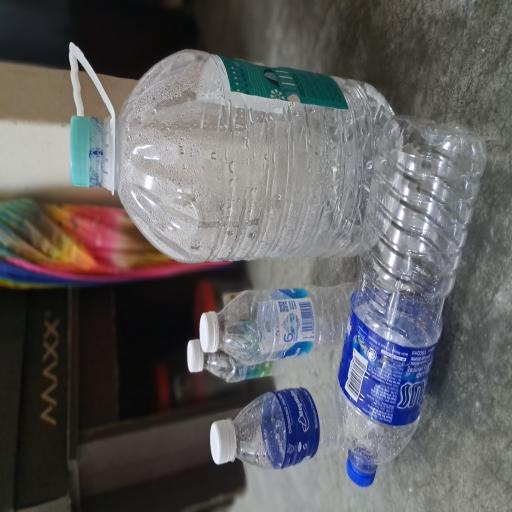plastic bottle: (187, 136, 348, 512), (33, 446, 297, 512), (112, 289, 174, 480), (32, 313, 98, 474), (98, 272, 132, 425)
plastic bottle cap: (242, 94, 297, 122), (36, 280, 70, 314), (19, 461, 43, 504), (120, 266, 152, 291), (105, 249, 130, 271)
